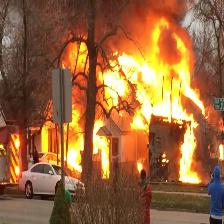fire: (113, 13, 221, 187), (65, 37, 111, 176), (39, 115, 61, 164), (7, 132, 23, 187)
